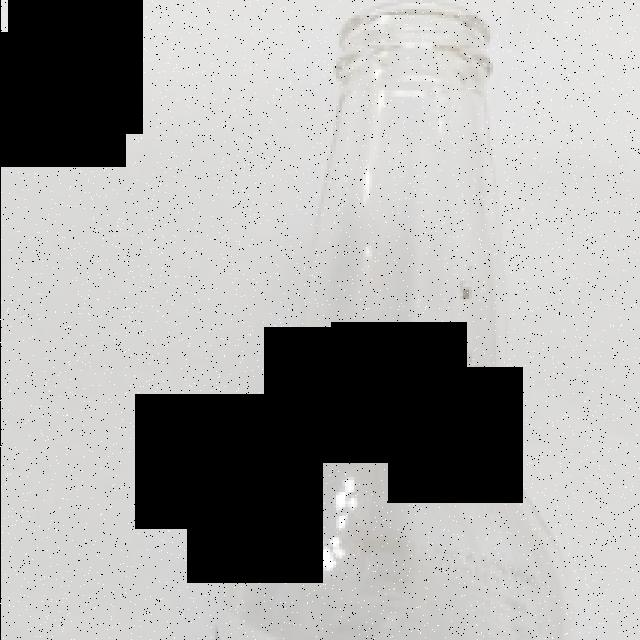glass-bottle: (183, 1, 593, 640)
